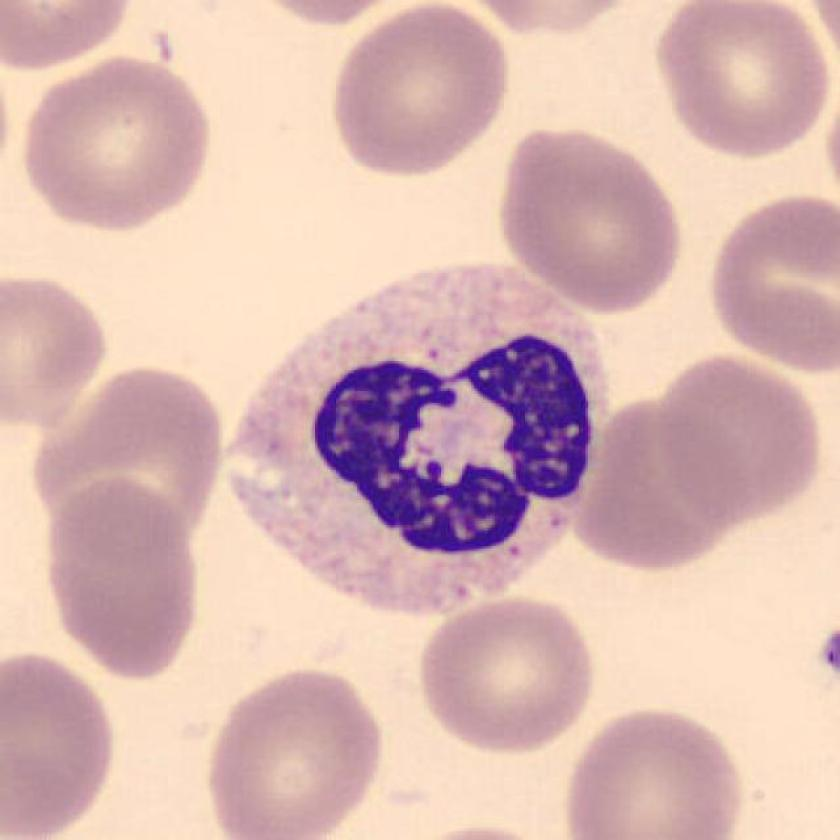neutrophil: (216, 264, 614, 613)
